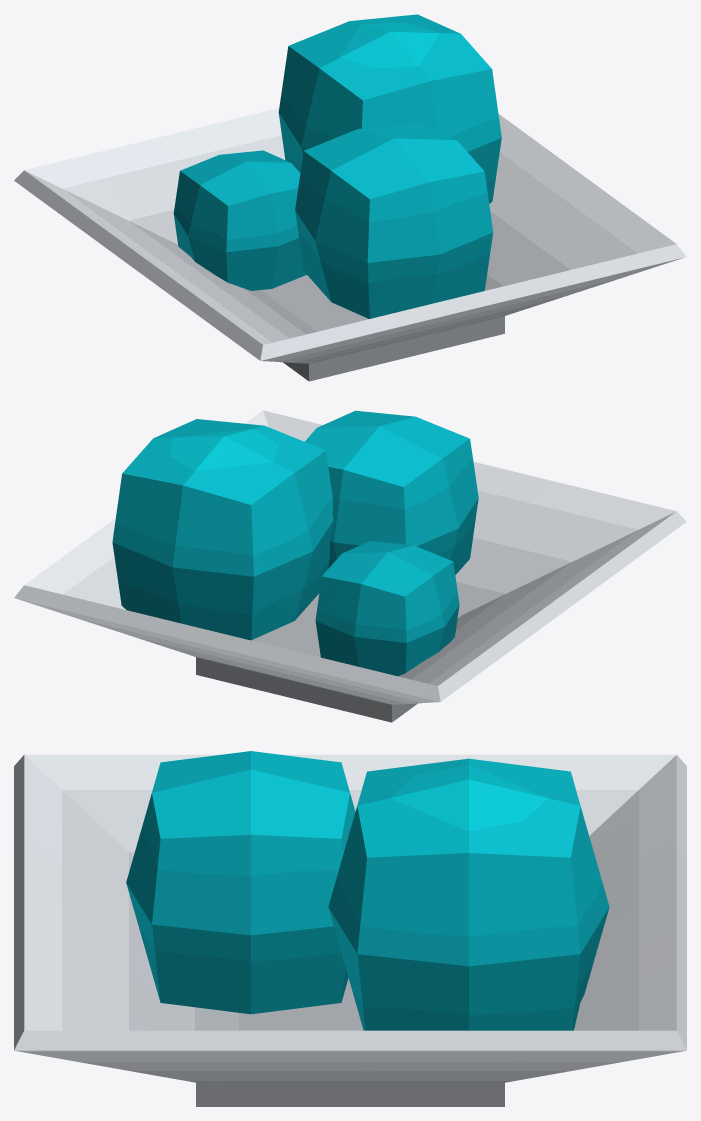
File: BallsDecoration.fbx
The picture shows the model from 3 angles, top to bottom: view 1: azimuth 30°, elevation 25°; view 2: azimuth 150°, elevation 25°; view 3: azimuth 270°, elevation 25°; orthographic projection. The views are drawn at different scales.
Visible parts, largest first — view 1: BallsDecoration_v1; view 2: BallsDecoration_v1; view 3: BallsDecoration_v1.
Boxes of the visible parts, bbox=[...] form: BallsDecoration_v1: bbox=[14, 14, 686, 381]; BallsDecoration_v1: bbox=[14, 410, 686, 722]; BallsDecoration_v1: bbox=[14, 751, 686, 1106].
Bounding box in the file's own units: 45.39 × 23.63 × 45.39.
